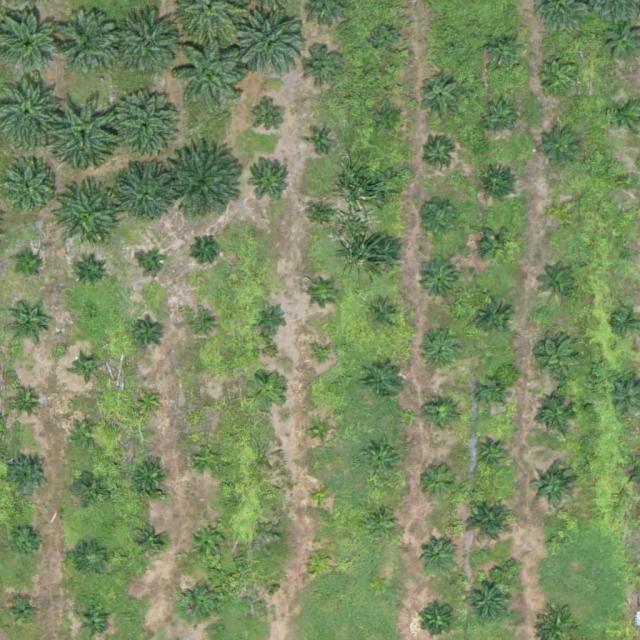Healthy: (47, 95, 125, 174), (169, 146, 247, 224), (107, 91, 178, 162), (237, 12, 307, 83), (177, 37, 247, 108), (51, 185, 121, 255), (117, 14, 180, 77), (54, 13, 117, 76), (114, 161, 176, 224), (463, 495, 517, 550), (373, 172, 404, 204), (481, 381, 504, 405)
Small: (531, 464, 578, 512), (414, 195, 461, 243), (465, 577, 512, 624), (247, 156, 294, 203), (178, 582, 218, 622), (365, 360, 405, 400), (420, 333, 459, 373), (418, 536, 458, 575), (417, 600, 456, 640), (476, 298, 515, 338), (539, 341, 579, 380), (543, 264, 582, 304), (8, 308, 47, 348), (131, 458, 170, 498), (9, 456, 49, 495), (366, 235, 405, 275), (301, 47, 340, 87), (541, 128, 580, 168), (484, 32, 524, 71), (417, 463, 456, 502), (419, 261, 458, 300), (538, 397, 577, 436), (190, 522, 229, 561), (363, 442, 402, 481), (420, 75, 459, 114), (478, 163, 517, 202), (541, 60, 580, 99), (250, 372, 289, 411), (76, 543, 107, 575), (369, 301, 400, 333), (75, 469, 106, 501), (256, 104, 287, 136), (609, 97, 640, 129), (10, 385, 41, 417), (11, 525, 42, 557), (135, 525, 166, 557), (80, 607, 111, 639), (425, 400, 456, 431), (482, 231, 513, 262), (75, 256, 106, 287), (134, 317, 165, 348), (365, 505, 396, 536), (425, 139, 456, 170), (483, 102, 514, 133), (256, 304, 287, 335), (194, 445, 225, 476), (71, 420, 102, 451), (13, 253, 44, 284), (8, 598, 39, 629), (475, 438, 505, 470), (315, 282, 339, 306), (194, 237, 218, 261), (373, 26, 397, 50), (377, 105, 401, 129), (310, 345, 334, 369), (309, 419, 333, 443), (310, 486, 334, 510), (308, 549, 332, 573), (137, 390, 161, 414), (76, 356, 100, 380), (143, 253, 166, 277), (191, 314, 214, 338), (198, 395, 221, 419), (250, 581, 273, 605), (309, 133, 332, 156), (312, 202, 335, 225), (446, 42, 462, 58), (620, 245, 635, 261), (554, 207, 570, 222), (548, 536, 563, 552), (620, 173, 635, 188)
